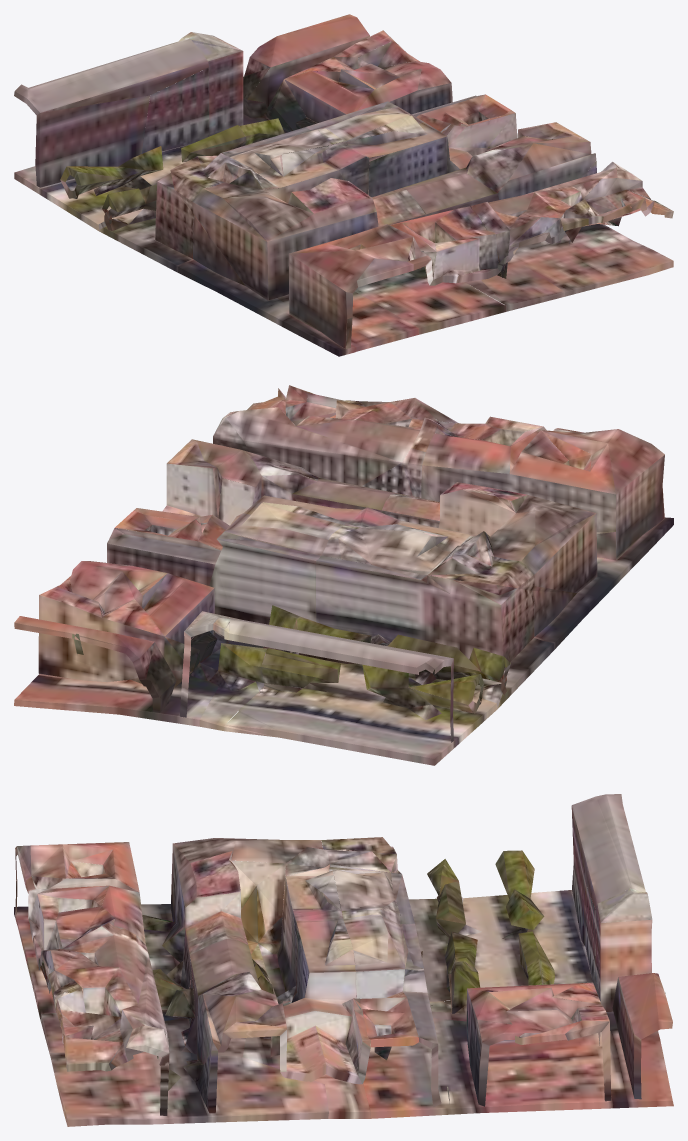
3 views of the same model, one above another, from view 1: azimuth 30°, elevation 25°; view 2: azimuth 150°, elevation 25°; view 3: azimuth 270°, elevation 25° (orthographic). The views are drawn at different scales.
Visible parts, largest first — view 1: Mesh_0; view 2: Mesh_0; view 3: Mesh_0.
Boxes of the visible parts, x1,y1,x2,y2 form: Mesh_0: (14,14,673,356); Mesh_0: (14,385,673,765); Mesh_0: (14,794,673,1126).
Bounding box in the file's own units: 133 × 33.39 × 165.
2 materials, 2 textured.
